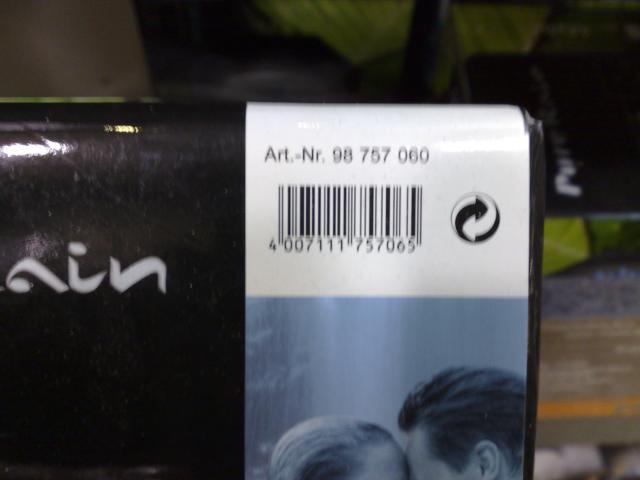Barkod: (276, 182, 421, 236)
